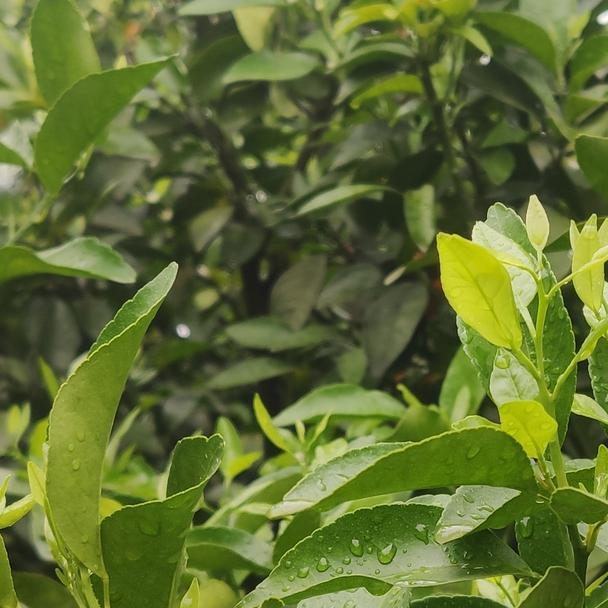shoot: (425, 199, 608, 478)
